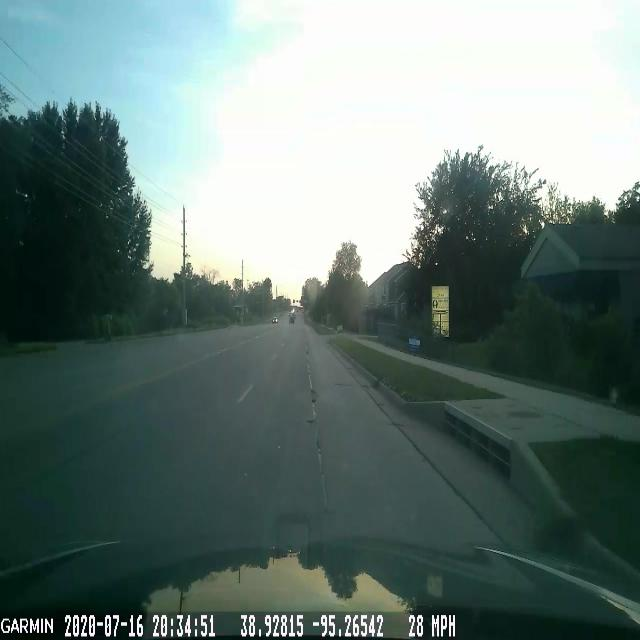Pothole: (305, 382, 324, 410), (301, 410, 319, 432)
